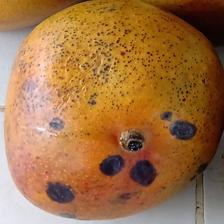mango: (2, 0, 223, 220)
